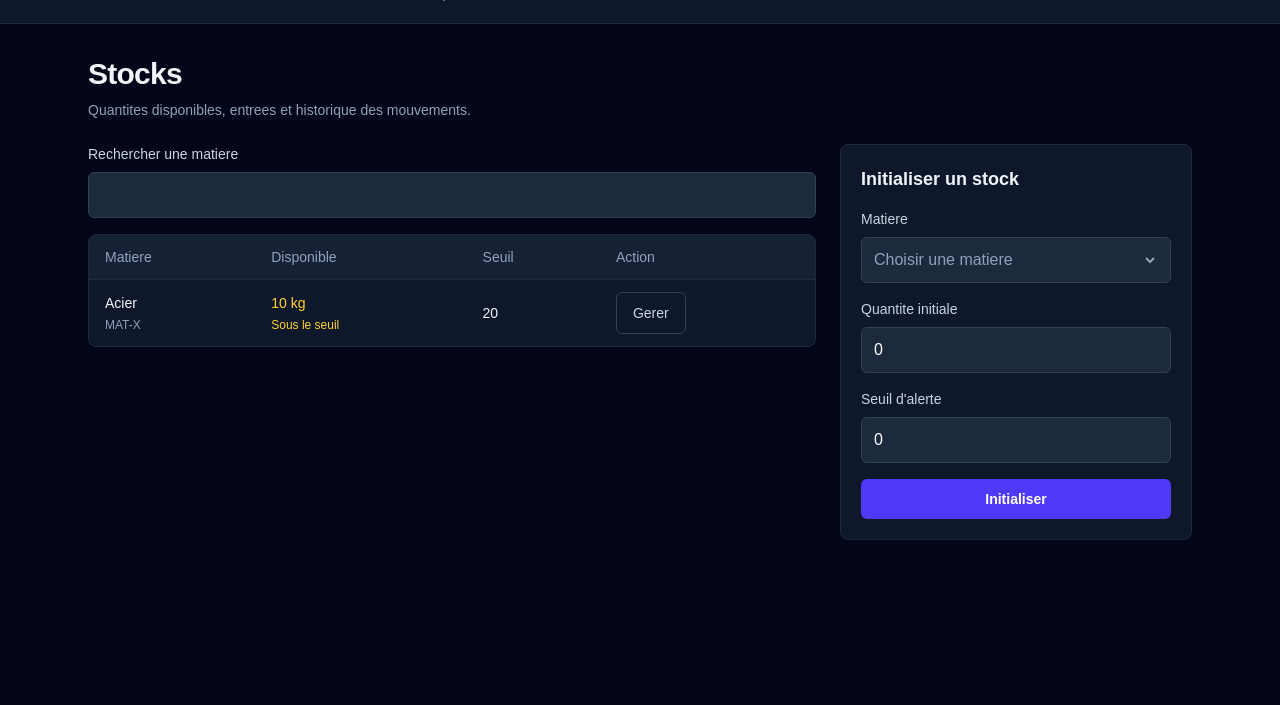
it: stock entries refresh the available quantity and movement history
Click the button "Gerer": (651, 313) top-left (616, 292), bottom-right (686, 334)
(page scrolled)
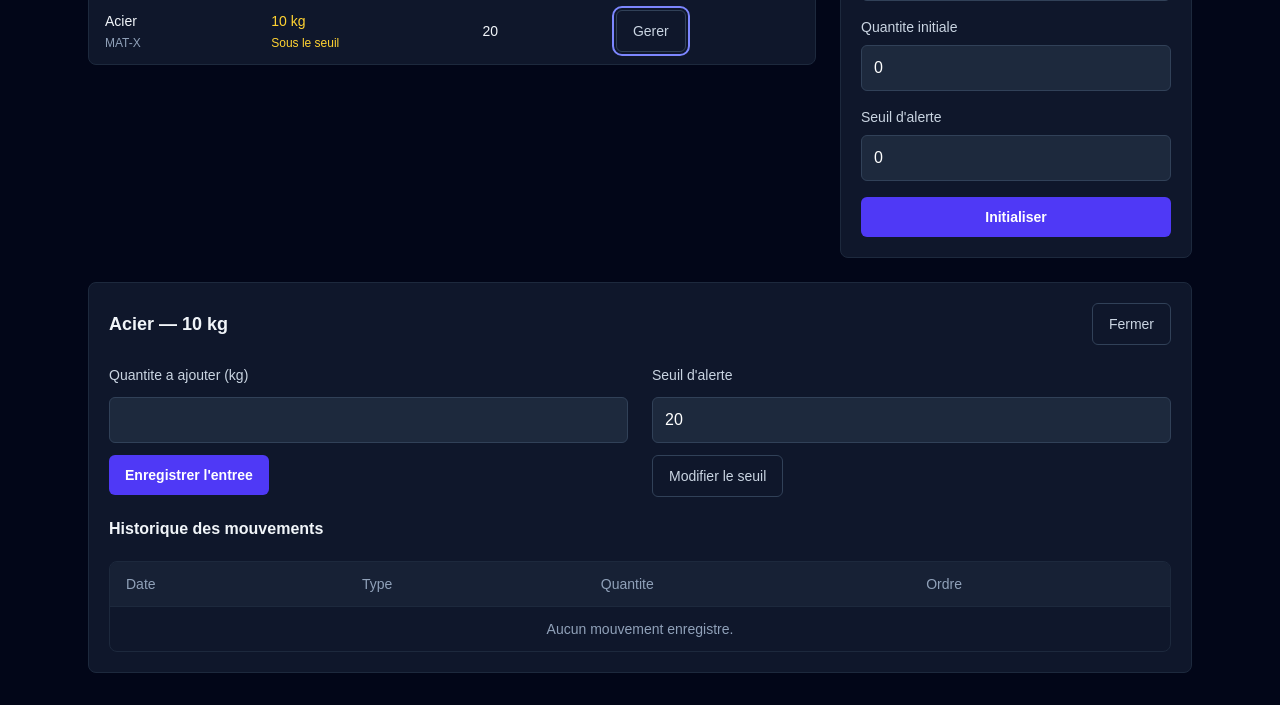
In the number field labelled "Quantite a ajouter (kg)": (368, 420) top-left (109, 397), bottom-right (628, 443), type "40"
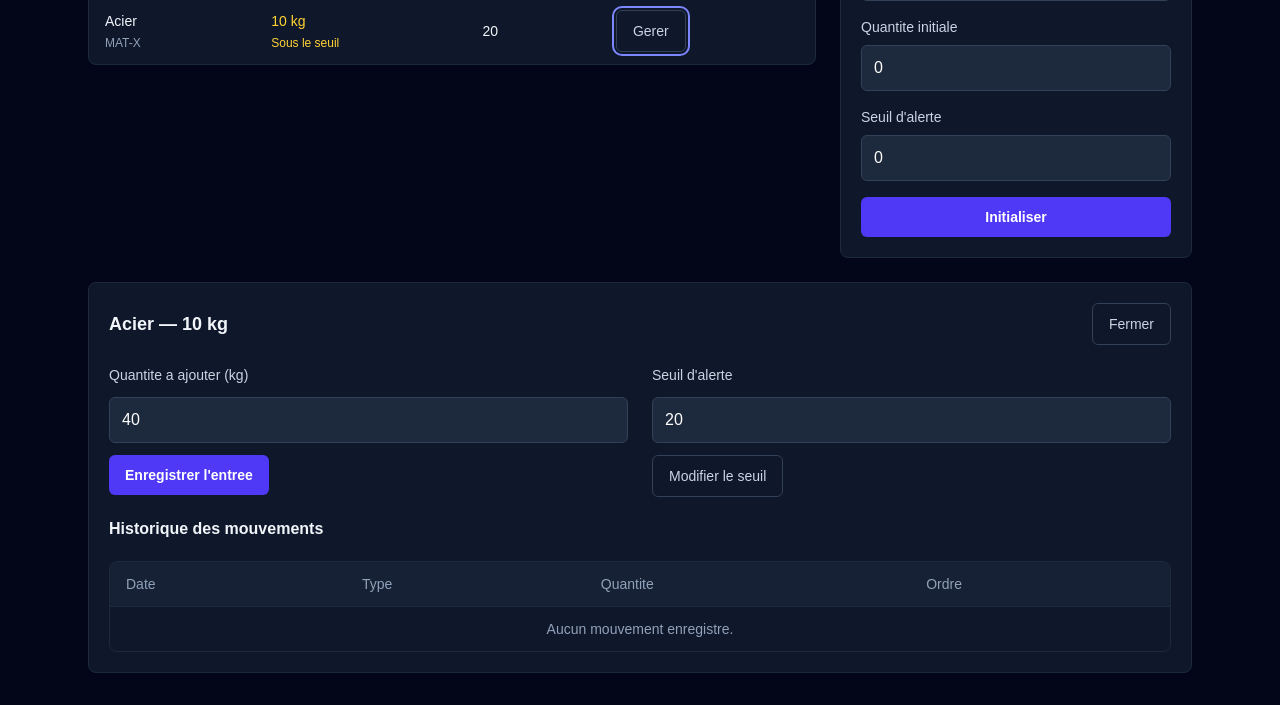
Click the button "Enregistrer l'entree": (189, 475) top-left (109, 455), bottom-right (269, 495)
(page scrolled)
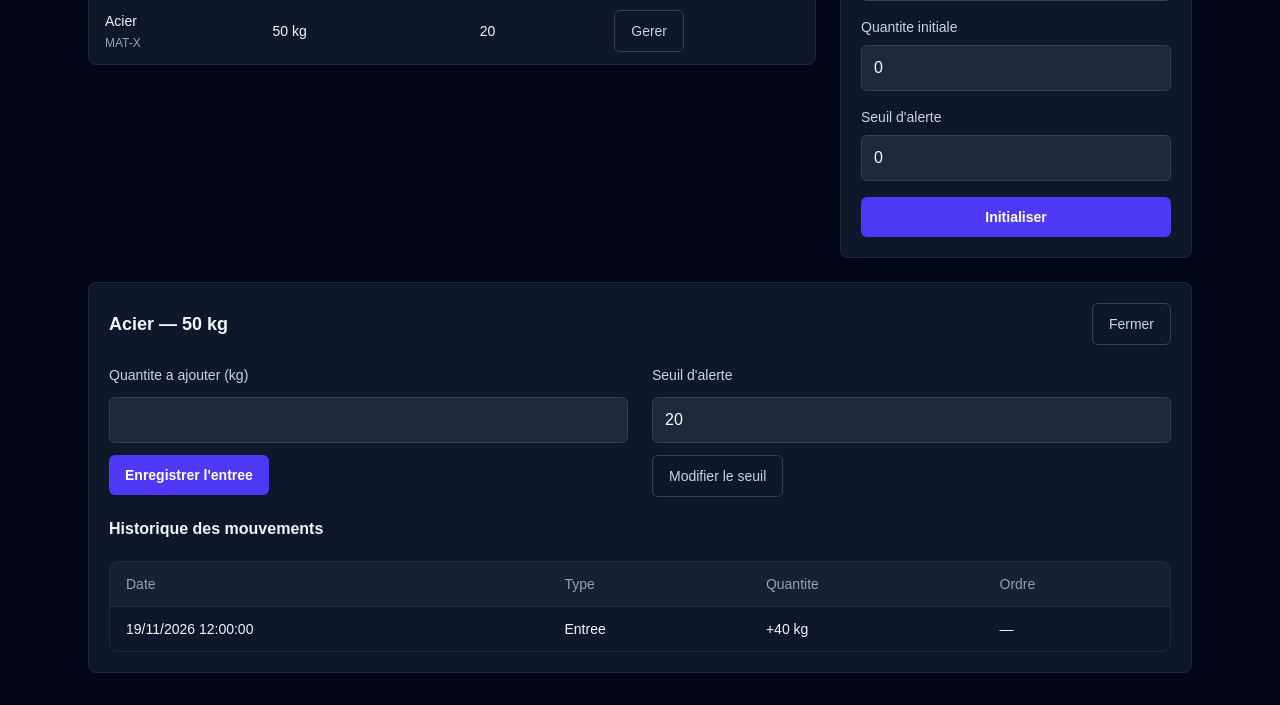
Expected: the heading "Acier — 50 kg" is shown, top-left (109, 310), bottom-right (228, 338)
Expected: the text "Entree" is shown, top-left (548, 606), bottom-right (750, 651)
